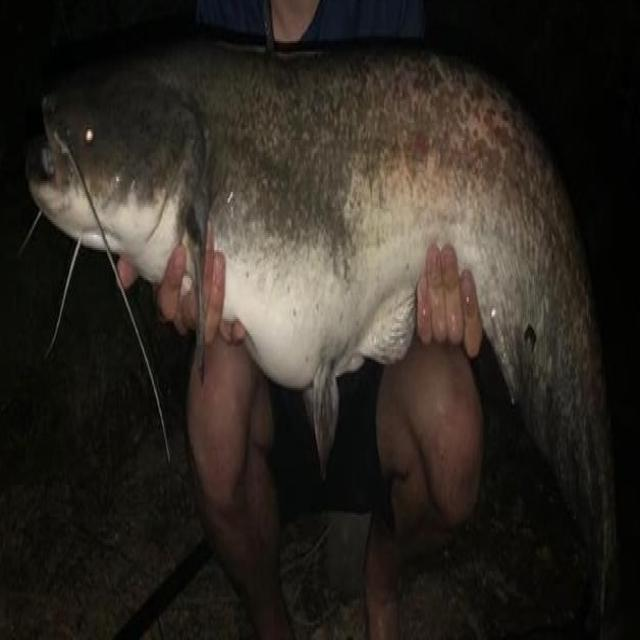Catfish: (31, 34, 624, 636)
